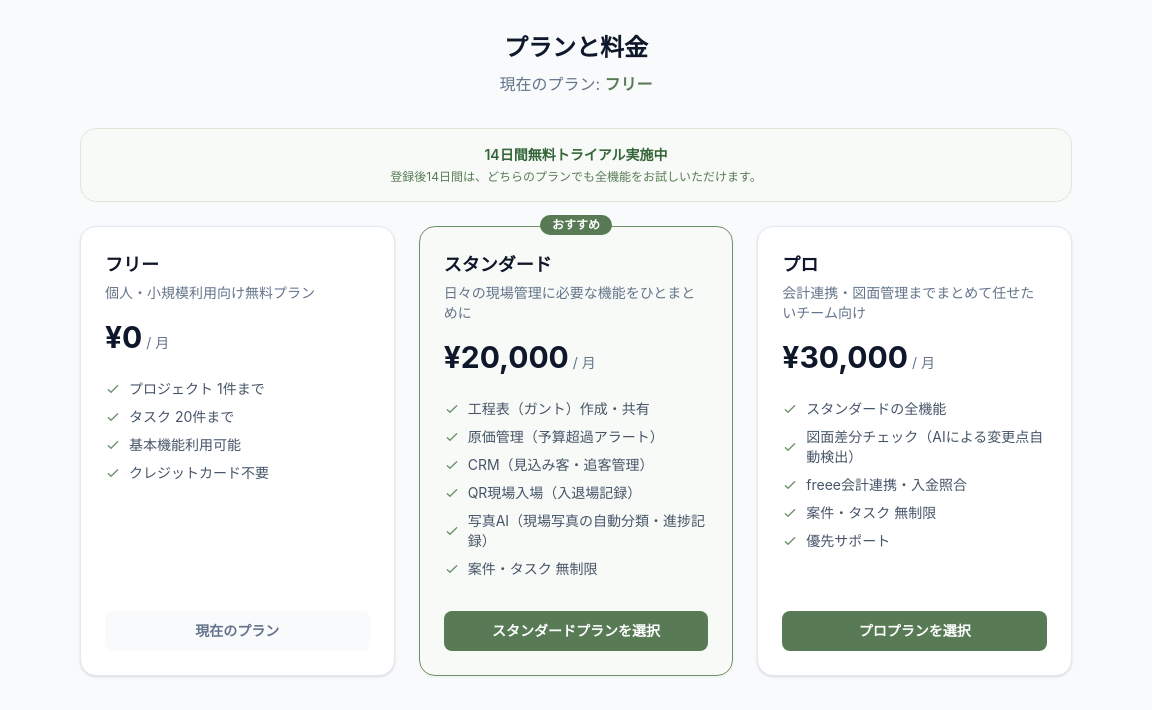
PricingPage › プロプランの選択ボタンも機能する
Click the button "プロプランを選択". click: (915, 631)
box: [782,611,1047,651]
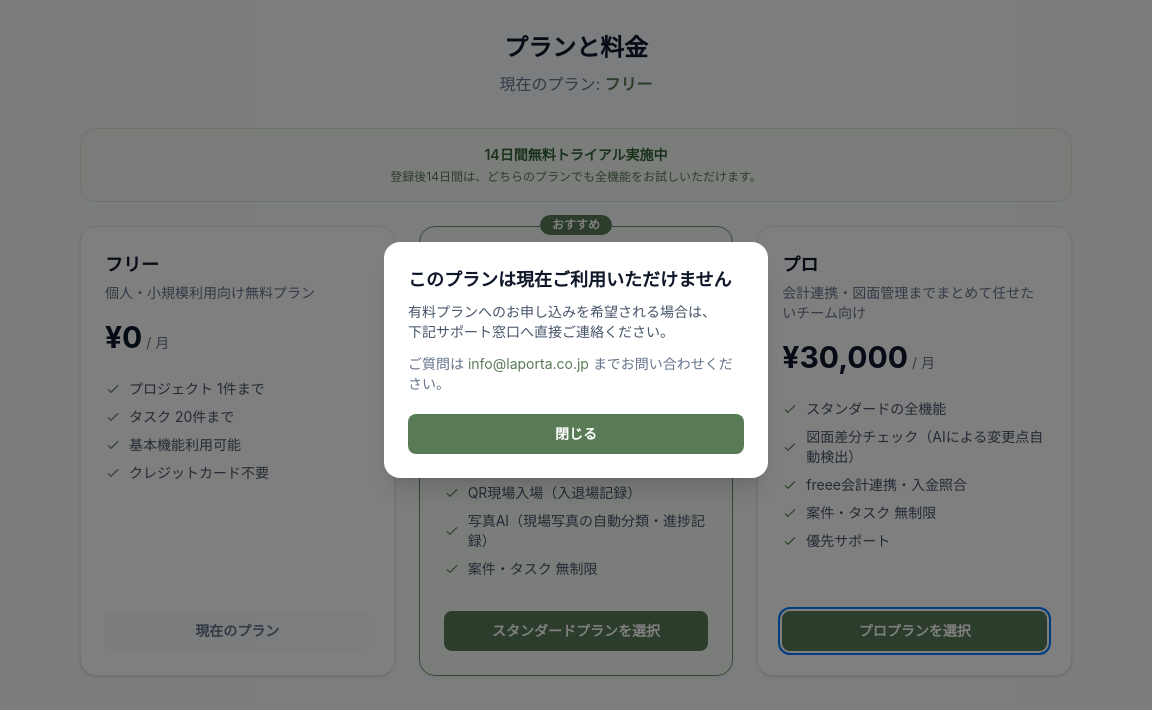
Expected: the heading "このプランは現在ご利用いただけません" is shown, [408,266,744,294]
